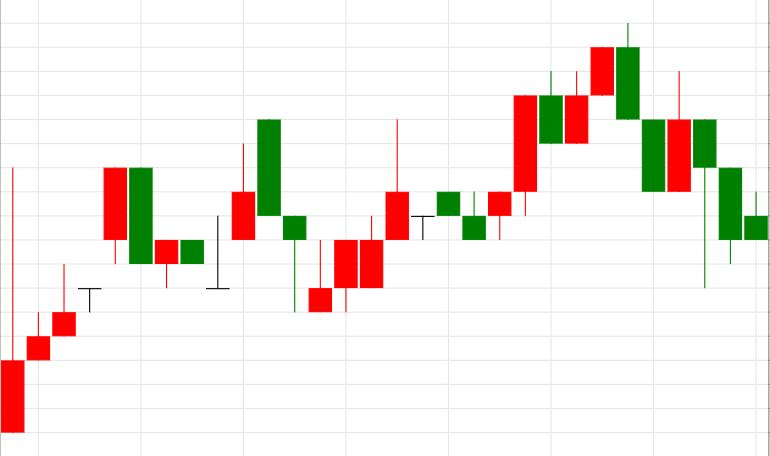bearish_engulfing_fall: (309, 22, 639, 313), (1, 168, 152, 432)
